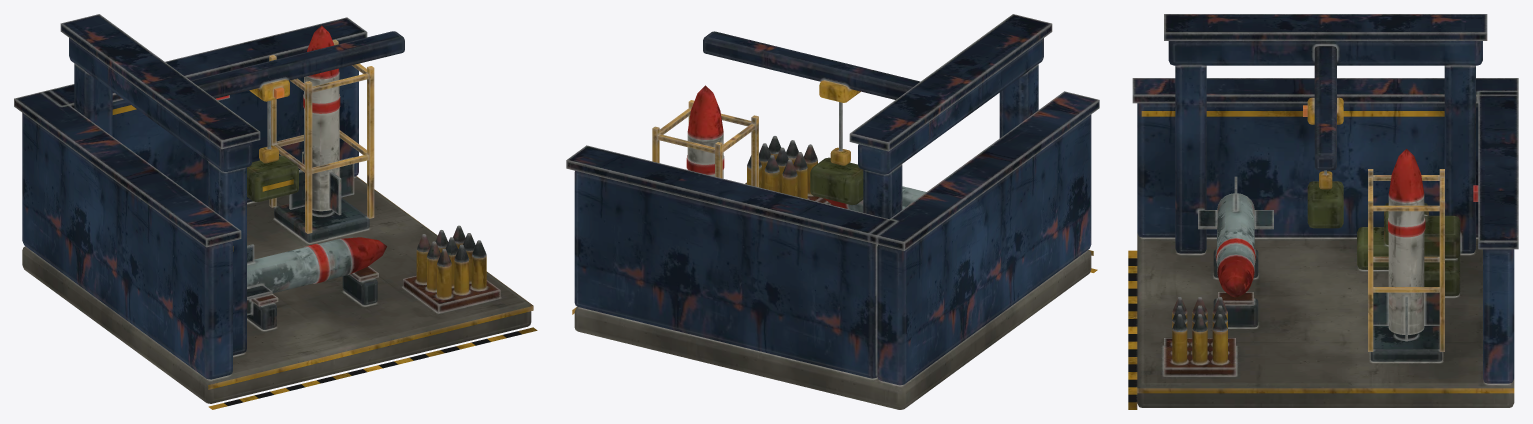
Rendered from arms_plant.glb.
The picture shows the model from 3 angles, left to right: view 1: azimuth 30°, elevation 25°; view 2: azimuth 150°, elevation 25°; view 3: azimuth 270°, elevation 25°; orthographic projection.
Parts seen in each view (by area): view 1: te_arms_plant; view 2: te_arms_plant; view 3: te_arms_plant.
Part boxes in pixels (bbox=[...]): te_arms_plant: bbox=[14, 14, 537, 409]; te_arms_plant: bbox=[566, 14, 1099, 409]; te_arms_plant: bbox=[1128, 14, 1518, 409].
Bounding box in the file's own units: 0.86 × 0.615 × 0.87.
Materials: 1 (1 with a texture image).
